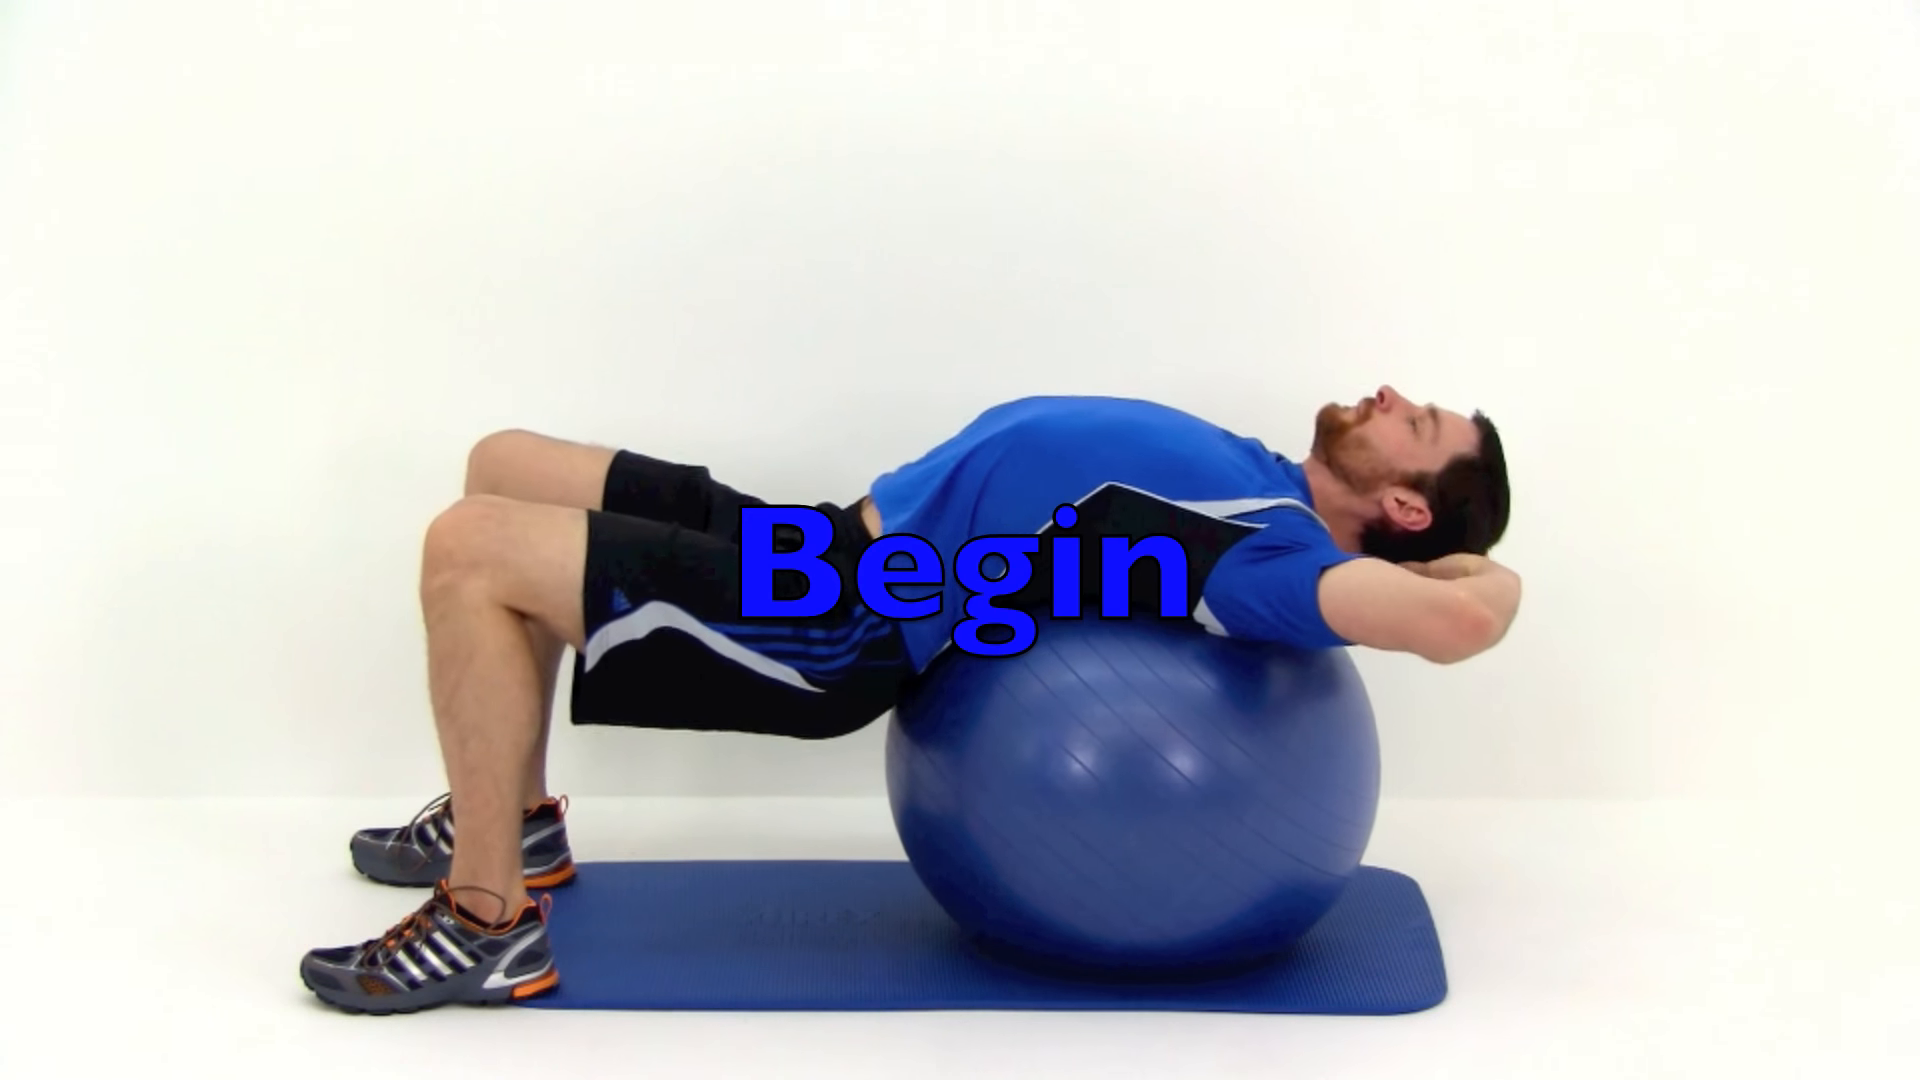yogaball: (876, 595, 1400, 992)
